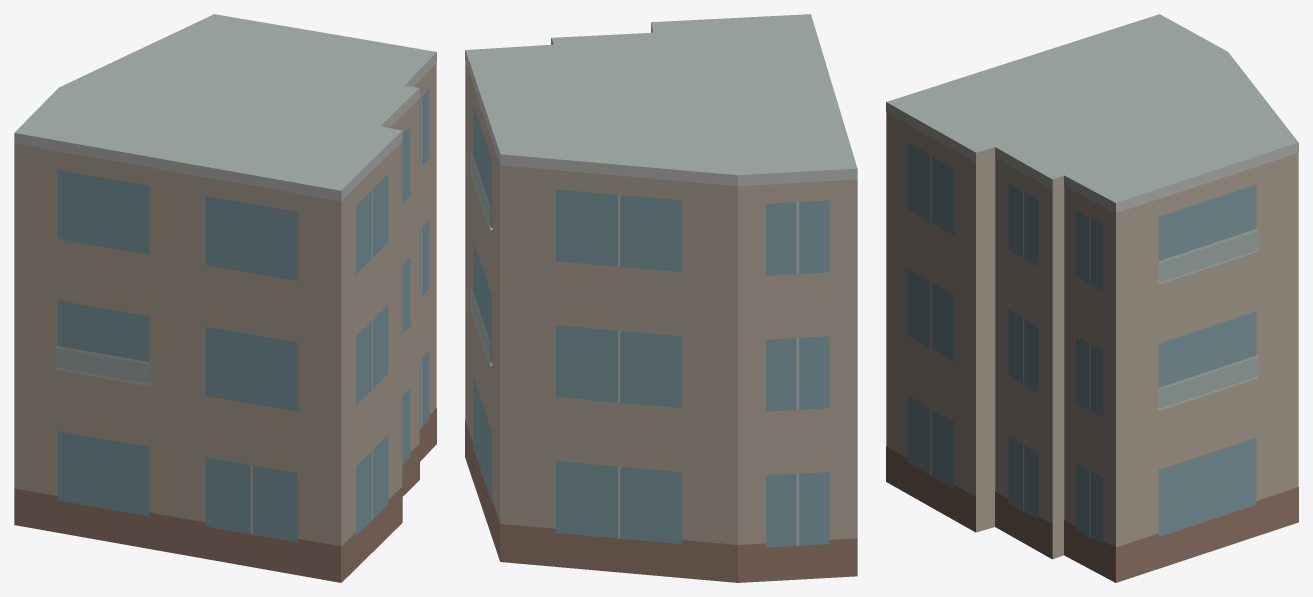
Rendered from survey-upis-33001485.glb.
3 views of the same model, side by side, from view 1: azimuth 30°, elevation 25°; view 2: azimuth 150°, elevation 25°; view 3: azimuth 270°, elevation 25° (orthographic). The views are drawn at different scales.
Parts seen in each view (by area): view 1: survey-upis-33001485.tmp; view 2: survey-upis-33001485.tmp; view 3: survey-upis-33001485.tmp.
Boxes of the visible parts, bbox=[...] form: survey-upis-33001485.tmp: bbox=[14, 14, 436, 582]; survey-upis-33001485.tmp: bbox=[465, 14, 857, 582]; survey-upis-33001485.tmp: bbox=[886, 14, 1298, 582].
Bounding box in the file's own units: 9.72 × 9.1 × 8.97.
